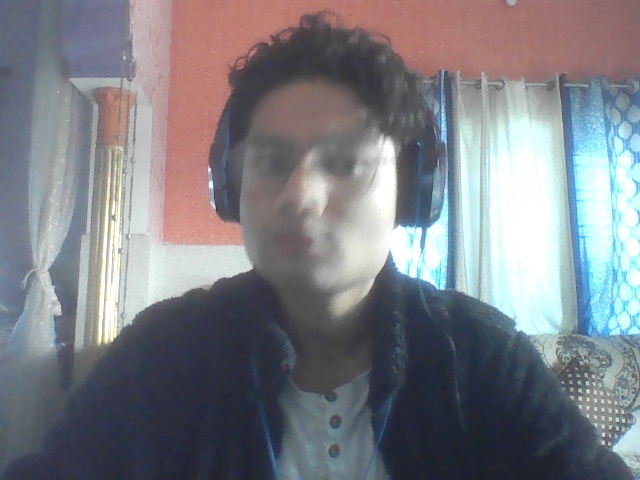real: (214, 16, 418, 305)
